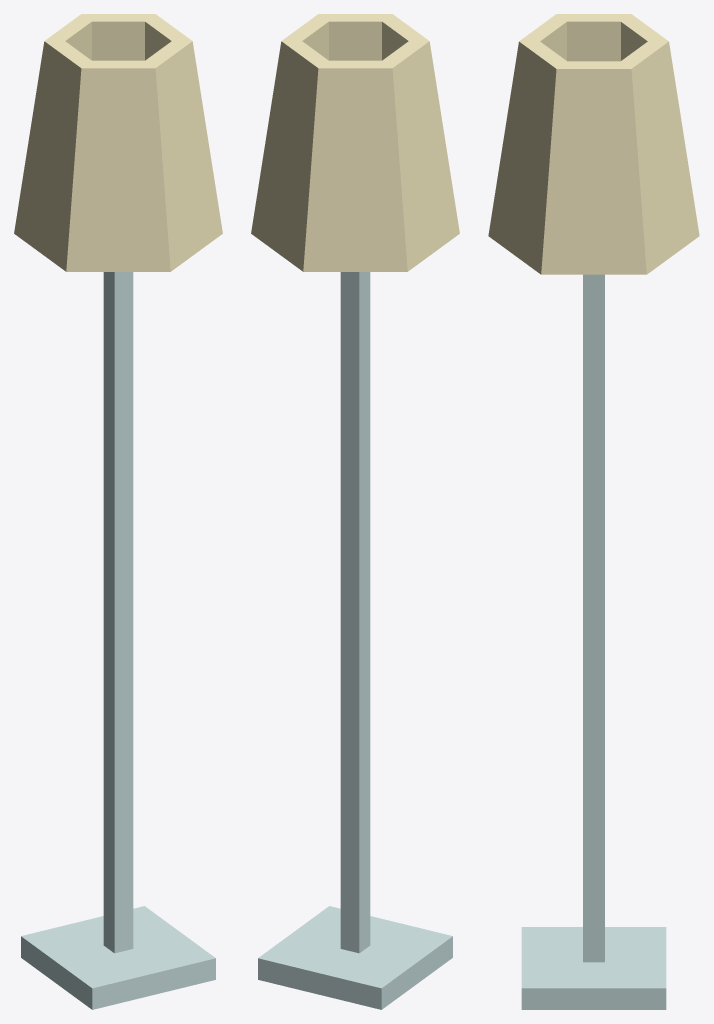
Rendered from lamp.glb.
The picture shows the model from 3 angles, left to right: view 1: azimuth 30°, elevation 25°; view 2: azimuth 150°, elevation 25°; view 3: azimuth 270°, elevation 25°; orthographic projection.
Visible parts, largest first — view 1: lampRoundFloor; view 2: lampRoundFloor; view 3: lampRoundFloor.
Part boxes in pixels (bbox=[...]): lampRoundFloor: bbox=[14, 14, 222, 1009]; lampRoundFloor: bbox=[251, 14, 459, 1009]; lampRoundFloor: bbox=[488, 14, 699, 1009].
Bounding box in the file's own units: 0.1768 × 1 × 0.2041.
